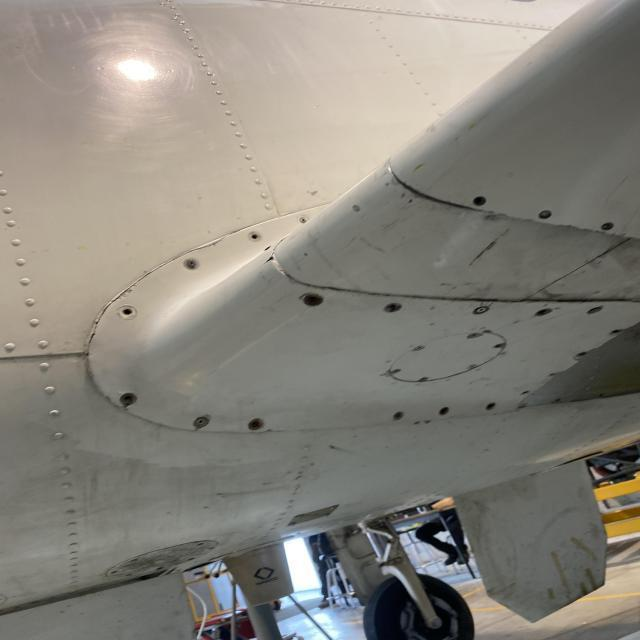Crack: (112, 277, 141, 300), (190, 236, 233, 251), (86, 318, 105, 346), (264, 255, 279, 268)
Missing_Fastener: (115, 388, 139, 406), (300, 293, 326, 307), (533, 306, 558, 320), (120, 305, 140, 320), (597, 219, 615, 234), (248, 416, 262, 431), (473, 194, 487, 208), (390, 411, 405, 423), (574, 350, 590, 360), (434, 406, 454, 414), (484, 401, 497, 412), (248, 232, 262, 242), (610, 328, 621, 337)
